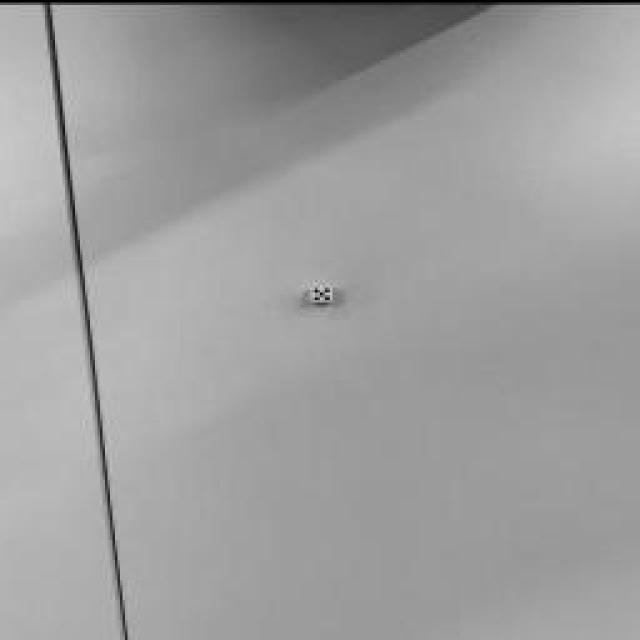dice_5: (312, 284, 332, 298)
